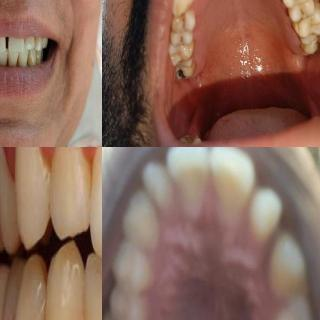cavities: (174, 59, 190, 82), (174, 36, 188, 54), (179, 4, 189, 26), (291, 0, 301, 4)
